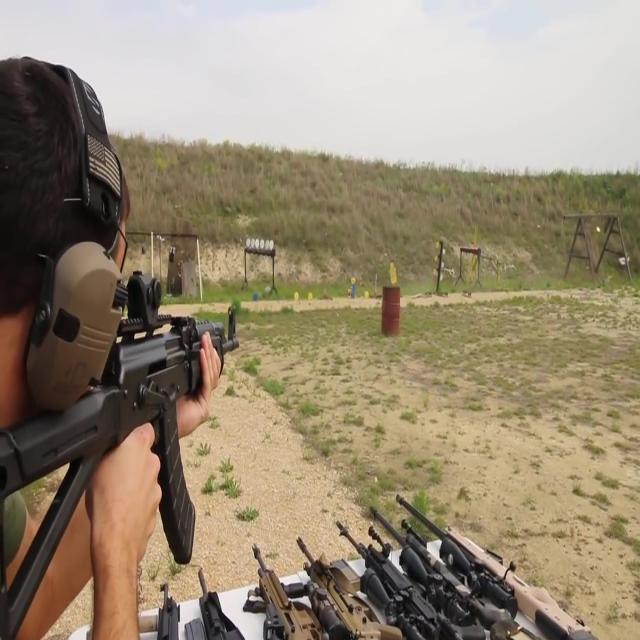Weapon: (0, 242, 271, 618), (106, 443, 620, 640)
